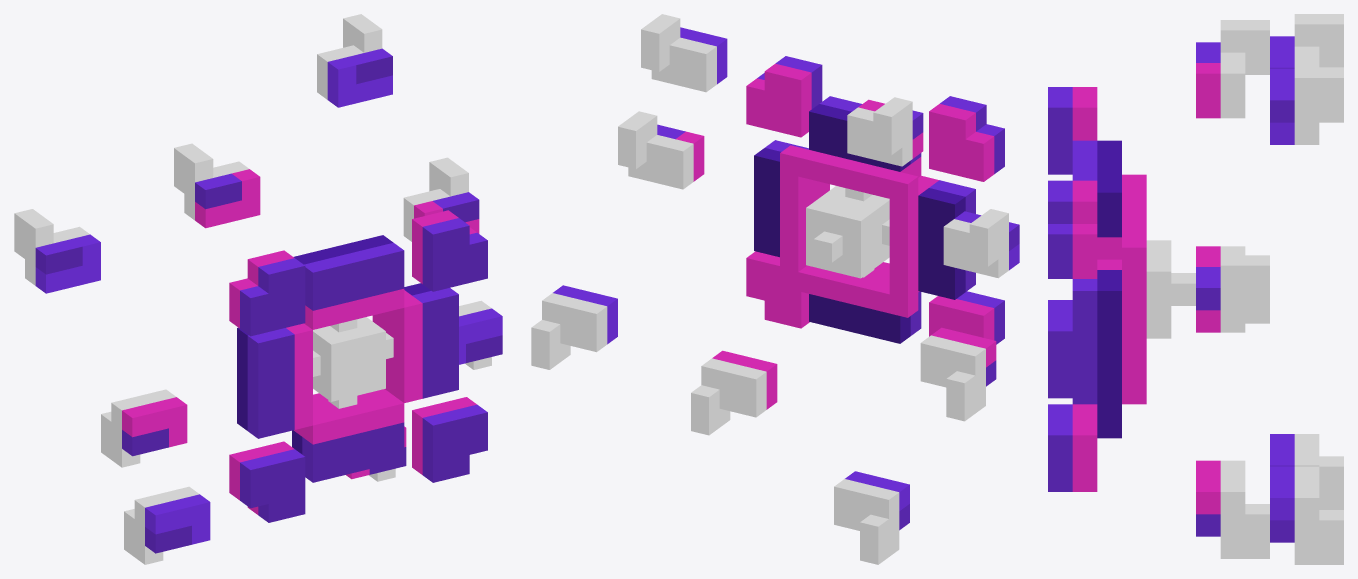
File: fx_piercingshot.glb
3 renders of one model, left to right at view 1: azimuth 30°, elevation 25°; view 2: azimuth 150°, elevation 25°; view 3: azimuth 270°, elevation 25°, orthographic. The views are drawn at different scales.
Visible parts, largest first — view 1: shards, ring, ring_corners, core; view 2: shards, ring, ring_corners, core; view 3: shards, ring, ring_corners, core.
Part boxes in pixels (<box>): shards: <box>14,14,502,564</box>; ring: <box>237,235,458,482</box>; ring_corners: <box>229,210,487,522</box>; core: <box>313,317,393,408</box>; shards: <box>531,14,1019,564</box>; ring: <box>754,96,975,343</box>; ring_corners: <box>746,56,1004,344</box>; core: <box>806,186,889,278</box>; shards: <box>1196,14,1343,564</box>; ring: <box>1072,140,1146,438</box>; ring_corners: <box>1048,87,1097,491</box>; core: <box>1146,240,1195,338</box>.
Size of the model in its own units: 25 by 25 by 12.
